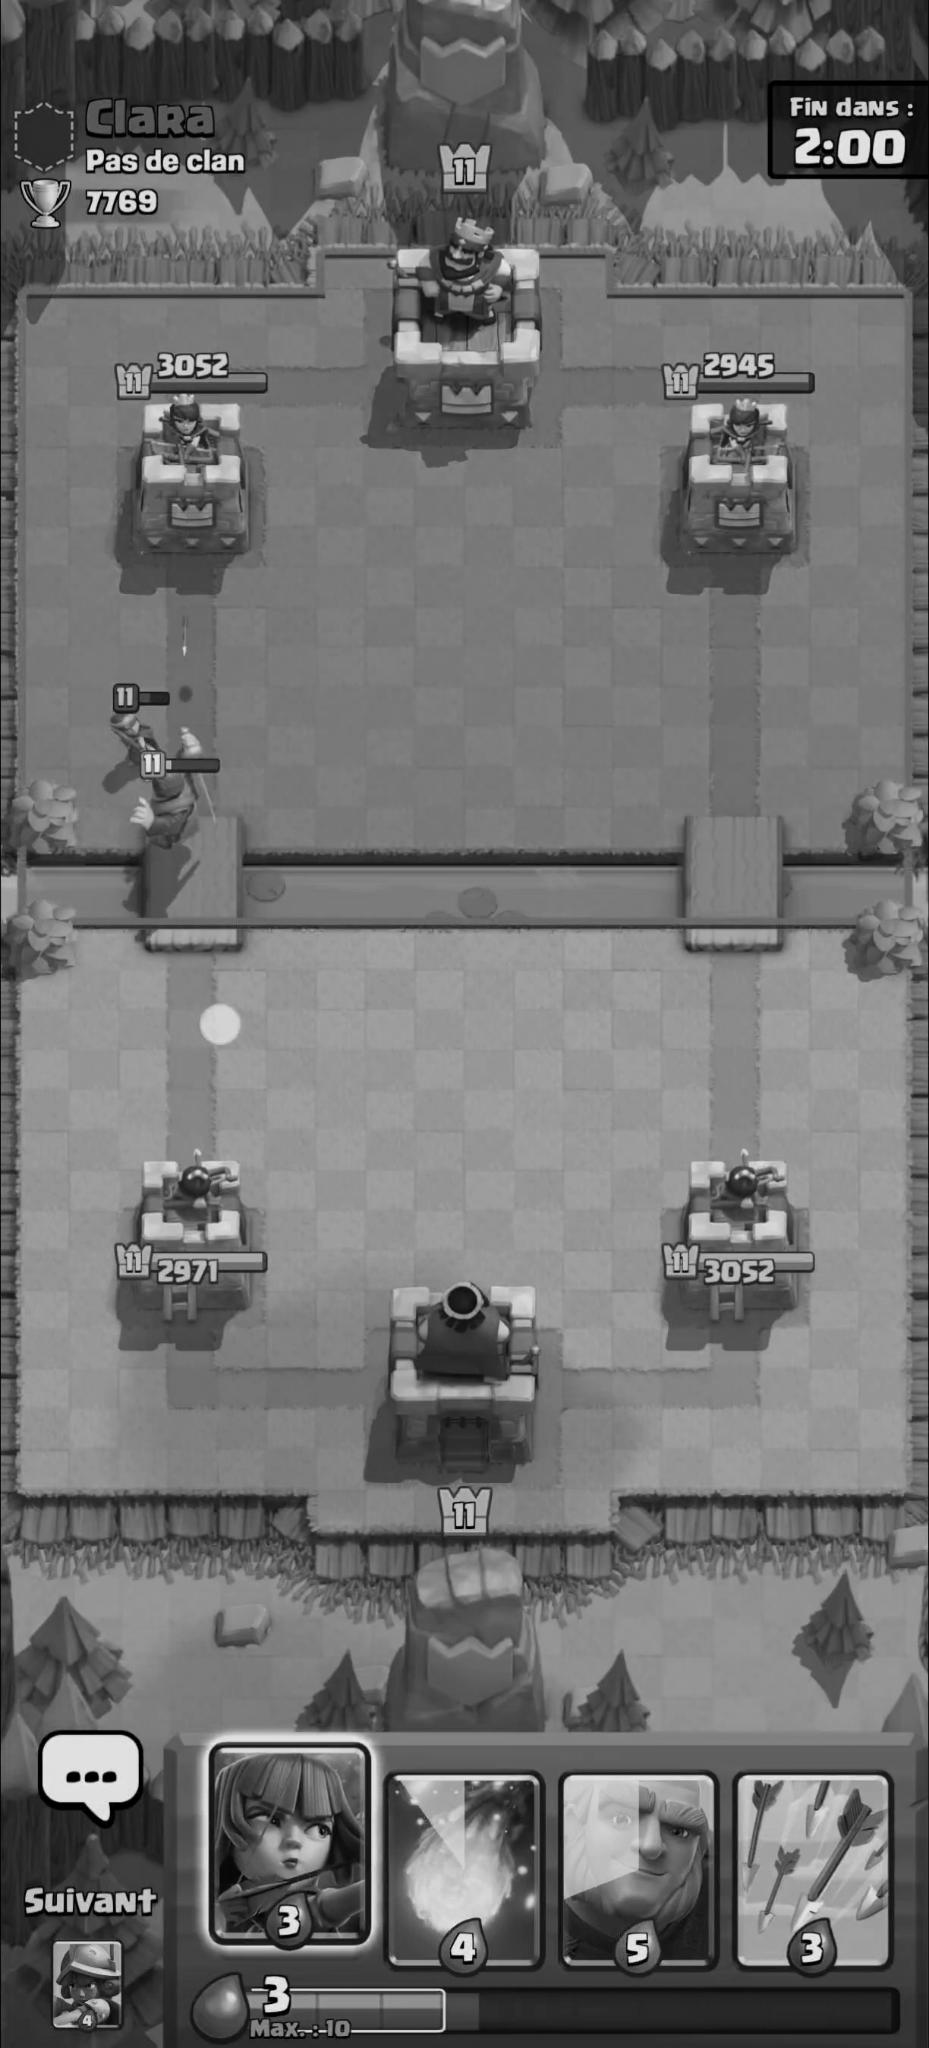archere: (111, 708, 165, 768)
chevalier: (139, 726, 216, 850)
